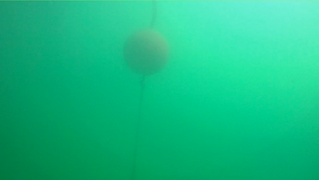buoy: (122, 27, 169, 76)
